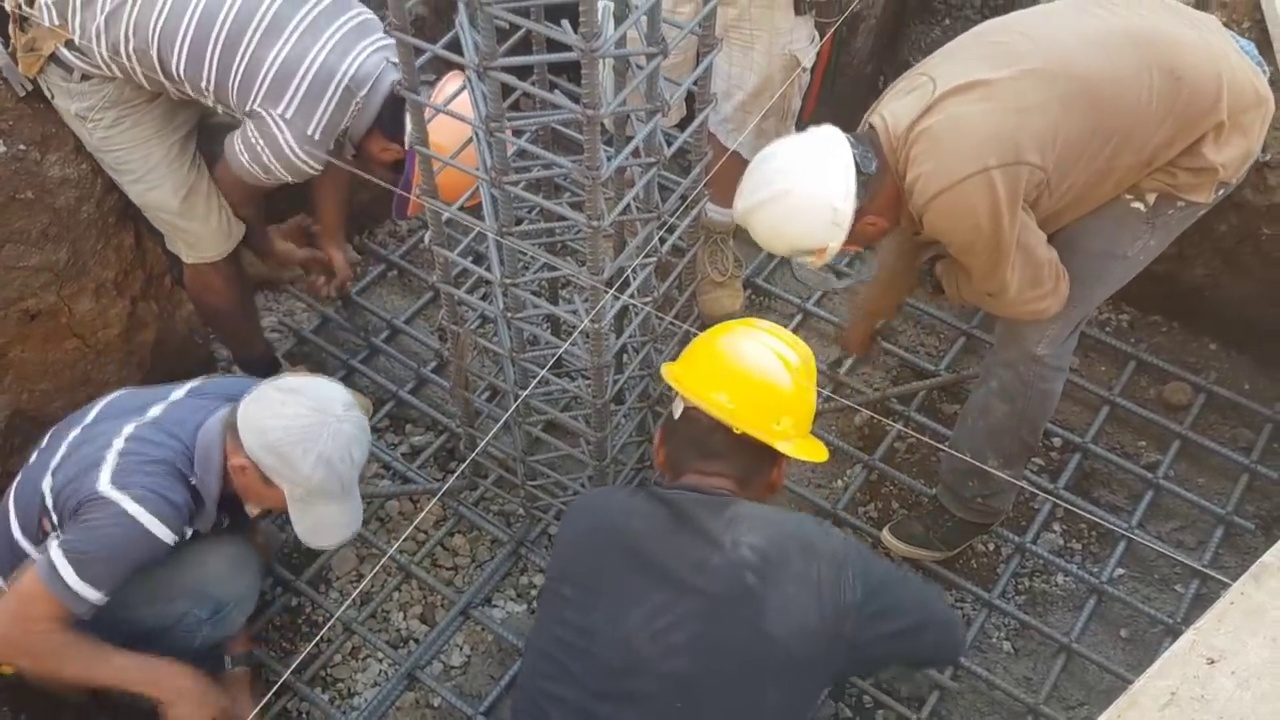helmet: (664, 314, 829, 467), (738, 120, 867, 269), (399, 65, 513, 208)
helmet-off: (221, 377, 363, 559)
helmet-on: (642, 308, 832, 509), (344, 56, 524, 226), (735, 105, 916, 270)
person: (728, 0, 1280, 567), (2, 0, 525, 360), (513, 309, 972, 716), (0, 375, 372, 720), (594, 2, 831, 302)
